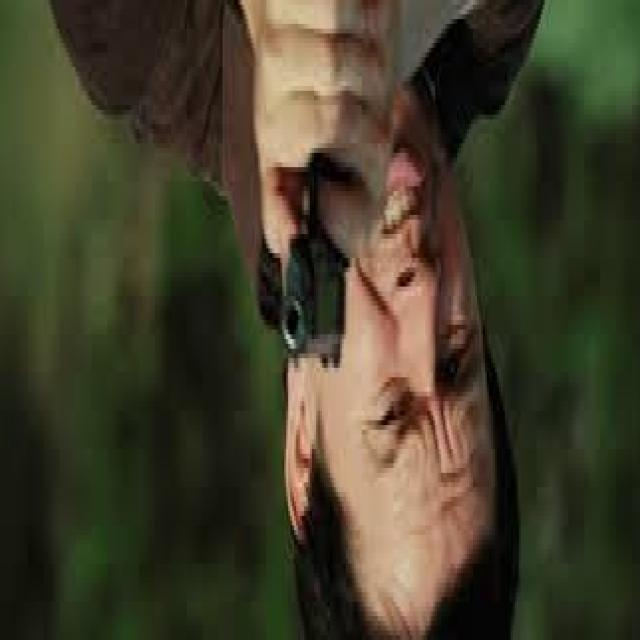gun: (275, 120, 371, 392)
